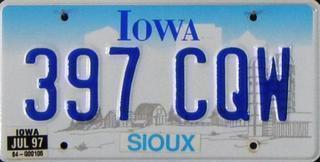placa de veiculo: (9, 5, 310, 162)
